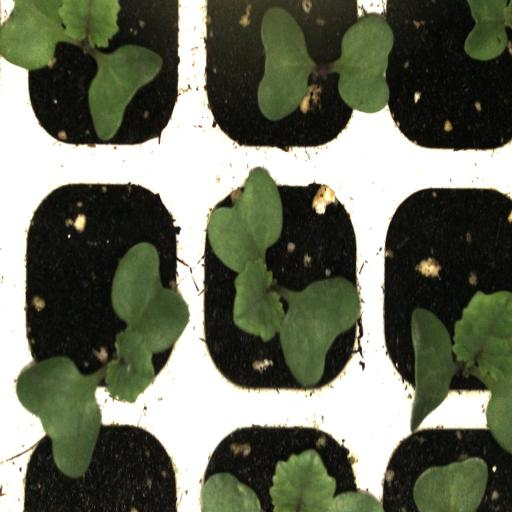seedling: (190, 164, 374, 398), (17, 160, 191, 401), (375, 161, 512, 409), (14, 0, 192, 160), (202, 0, 373, 161)
